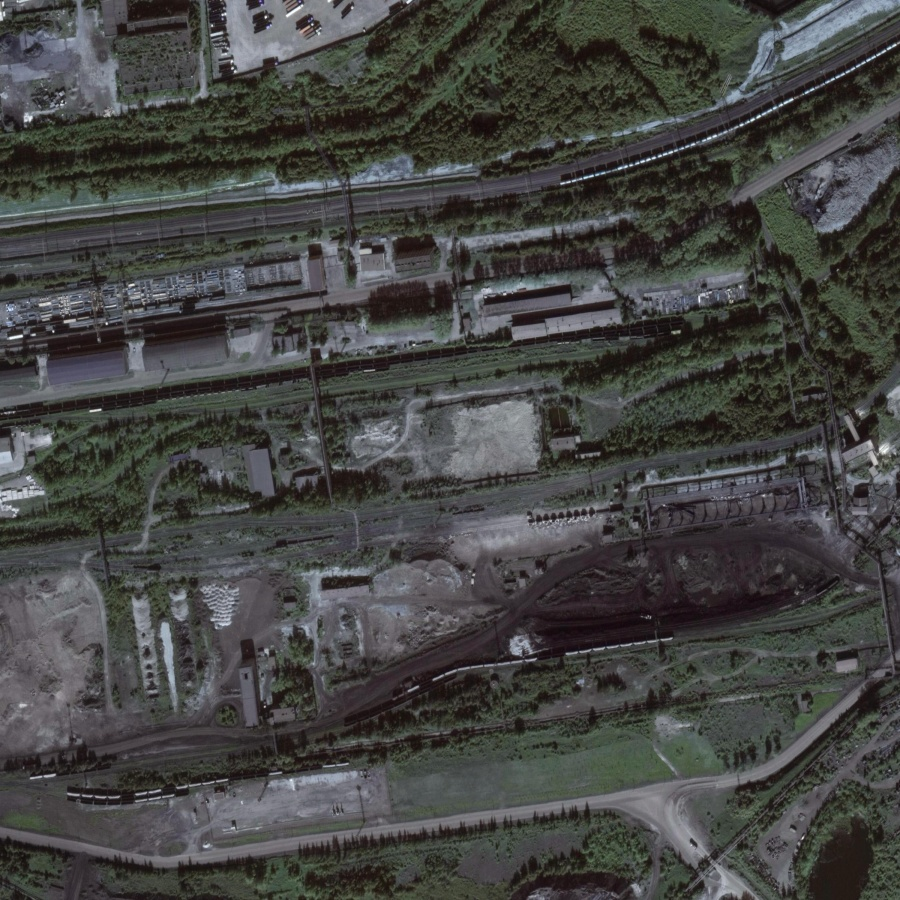PowerPlant: (408, 502, 848, 667)
